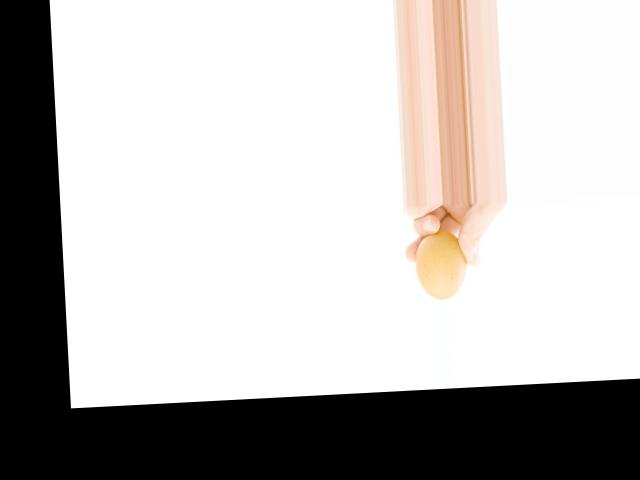egg: (413, 231, 468, 301)
